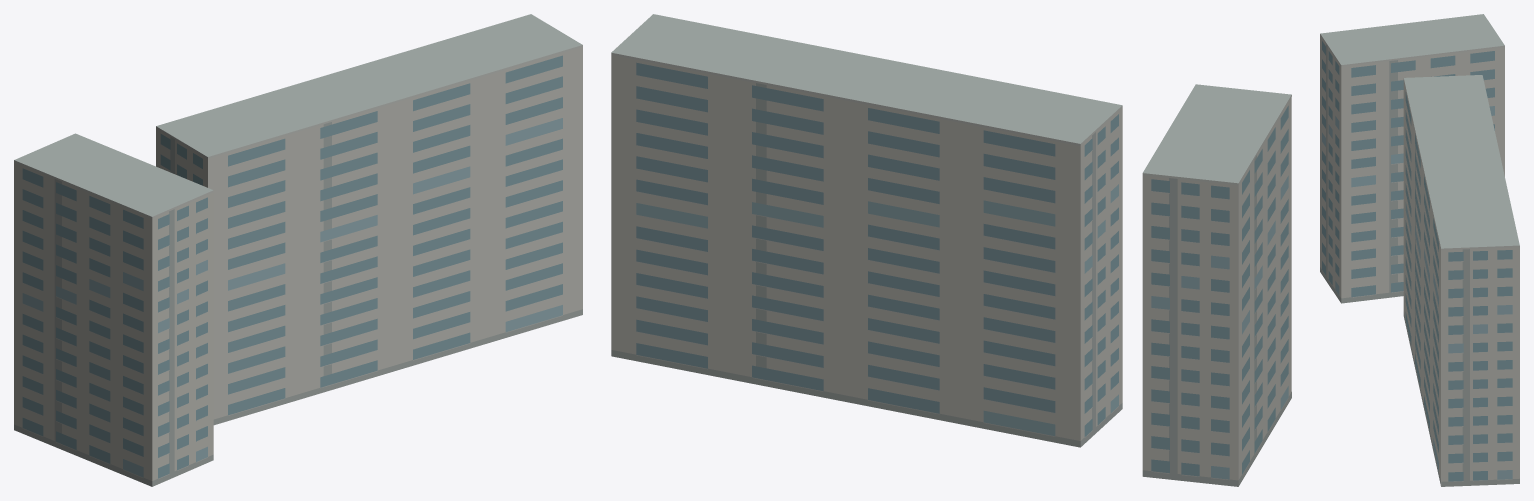
The model's file is residential-f88ce43d-10d8-4823-ad2b-8e1123b3282b.glb.
The picture shows the model from 3 angles, left to right: view 1: azimuth 30°, elevation 25°; view 2: azimuth 150°, elevation 25°; view 3: azimuth 270°, elevation 25°; orthographic projection. The views are drawn at different scales.
Parts seen in each view (by area): view 1: residential-f88ce43d-10d8-4823-ad2b-8e1123b3282b.tmp; view 2: residential-f88ce43d-10d8-4823-ad2b-8e1123b3282b.tmp; view 3: residential-f88ce43d-10d8-4823-ad2b-8e1123b3282b.tmp.
Part boxes in pixels (box(x1,y1,x2,y2)): residential-f88ce43d-10d8-4823-ad2b-8e1123b3282b.tmp: box(14, 14, 582, 486); residential-f88ce43d-10d8-4823-ad2b-8e1123b3282b.tmp: box(611, 14, 1291, 486); residential-f88ce43d-10d8-4823-ad2b-8e1123b3282b.tmp: box(1320, 14, 1519, 486).
Bounding box in the file's own units: 73.88 × 35 × 26.59.
